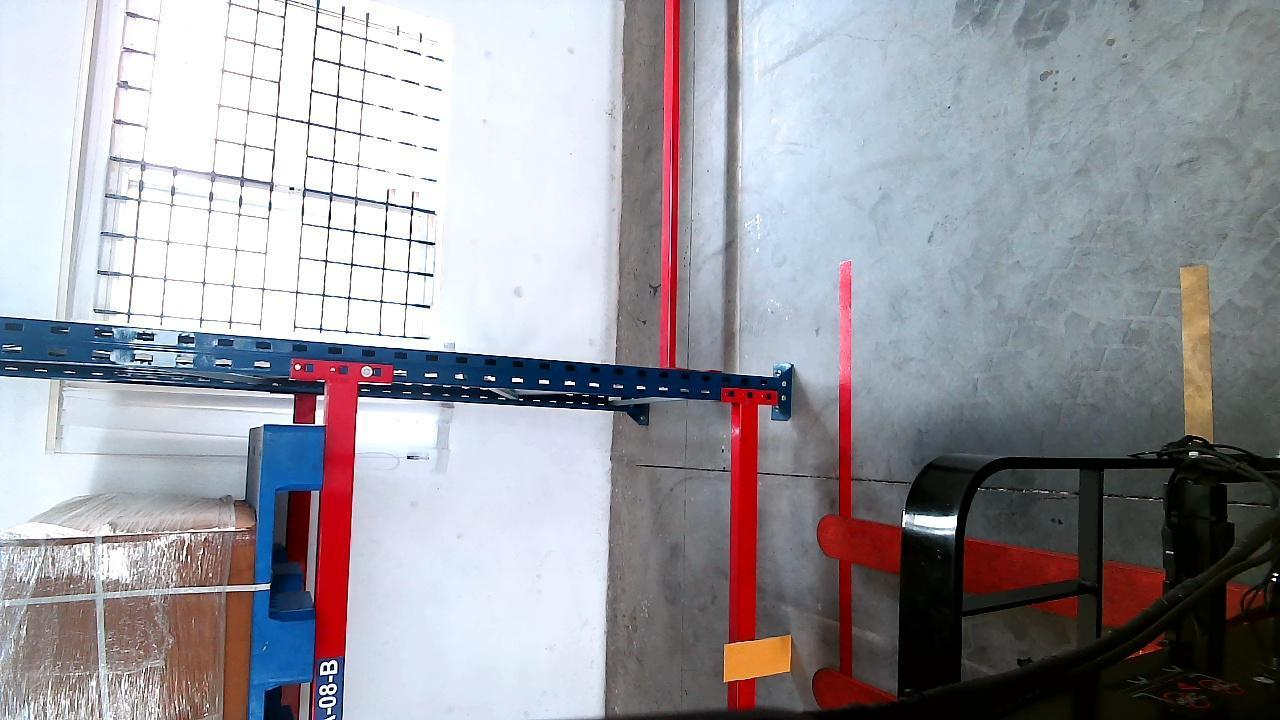h_rack: (314, 381, 358, 720), (730, 403, 760, 708)
orange_strip: (725, 635, 794, 682)
red_line: (836, 260, 855, 674)
small_pallet: (260, 421, 331, 720)
yellow_line: (1178, 263, 1214, 443)
